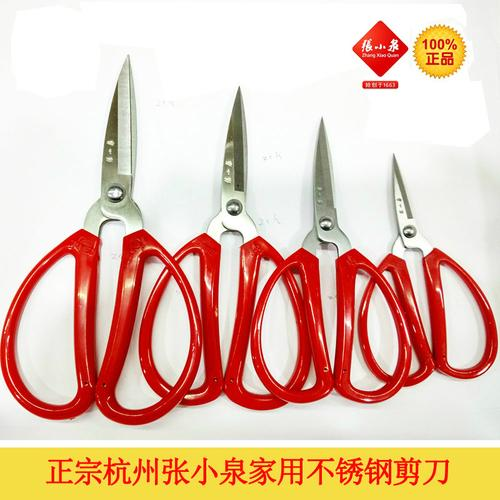scissor: (3, 56, 202, 424), (249, 116, 412, 409)
